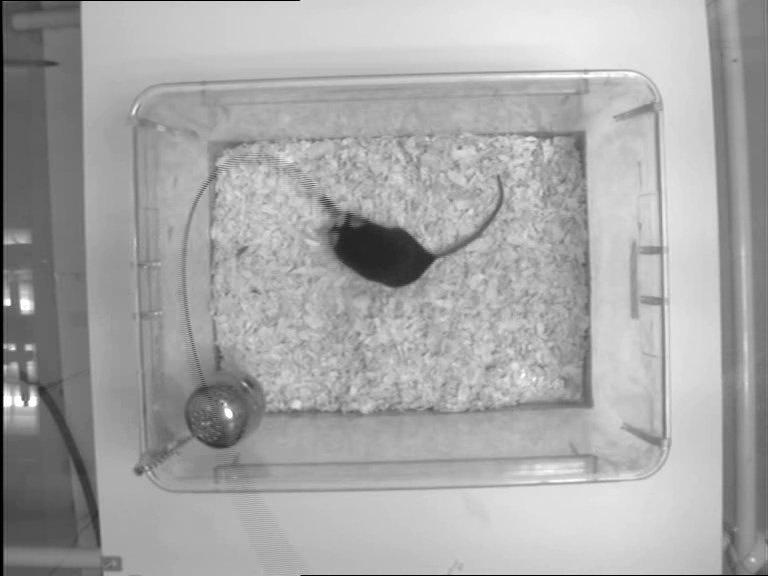mice: (323, 175, 503, 293)
